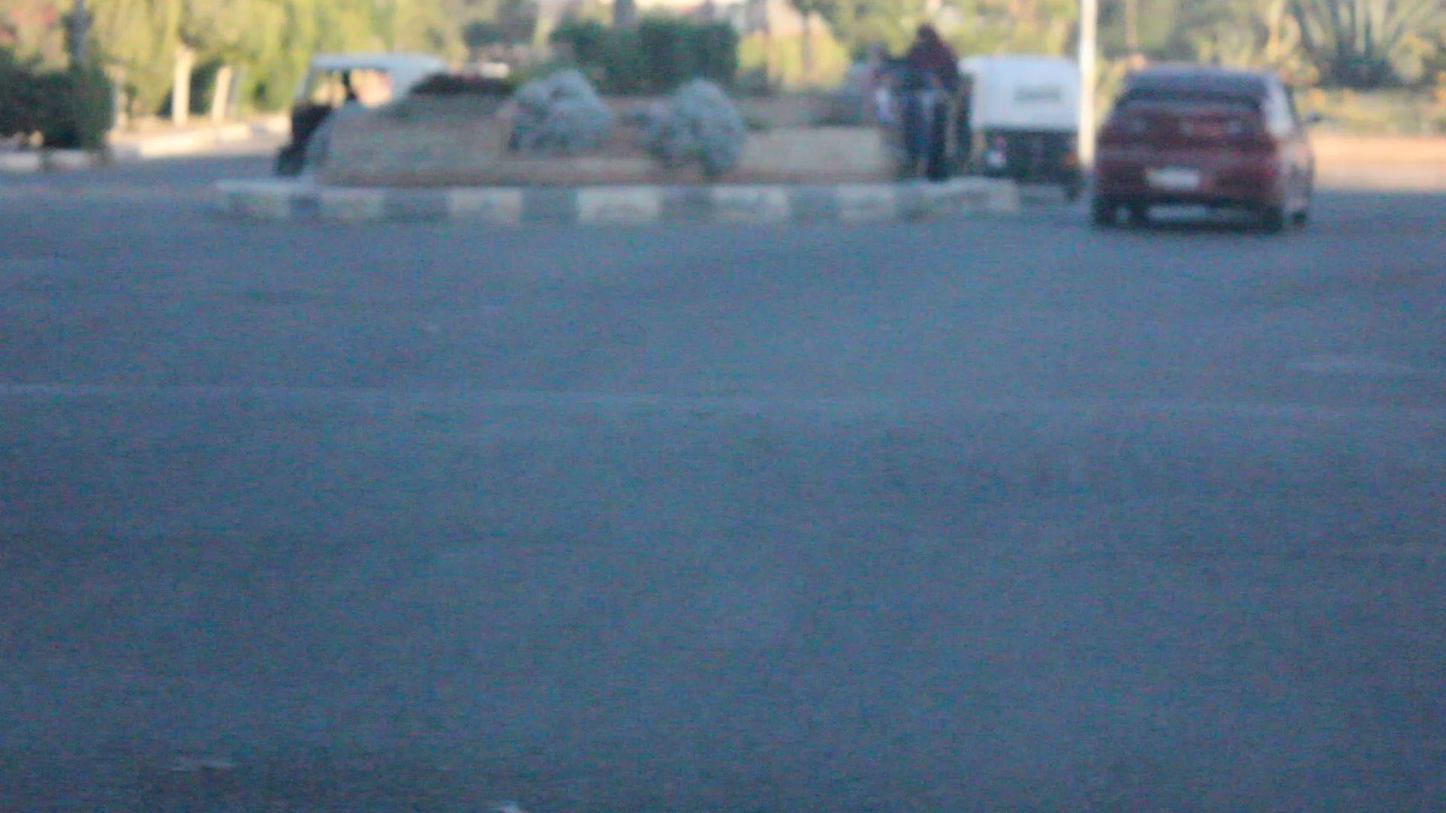Bump: (0, 386, 1446, 610)
